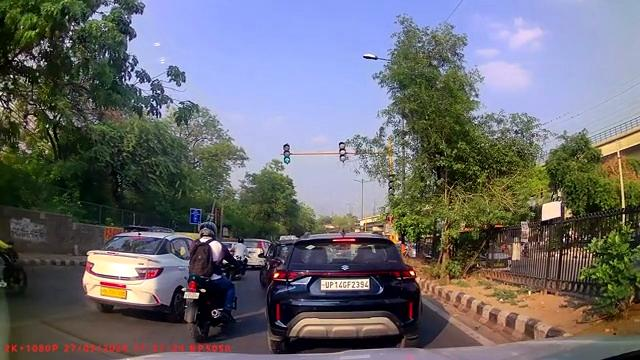motorcycle_with_helmet: (183, 220, 239, 342)
